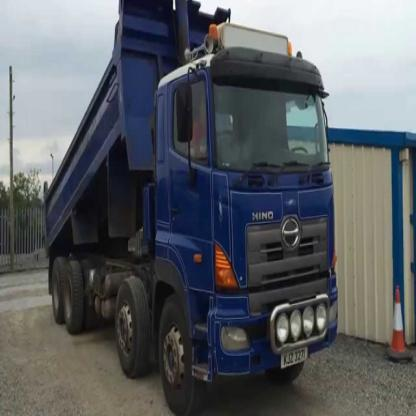dump_truck: (38, 2, 342, 407)
